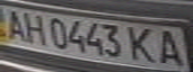0: (45, 16, 69, 51)
3: (100, 21, 127, 60)
4: (84, 20, 106, 56), (66, 18, 87, 54)
A: (151, 27, 190, 68), (0, 7, 30, 42)
H: (18, 11, 48, 46)
K: (124, 25, 160, 65)
